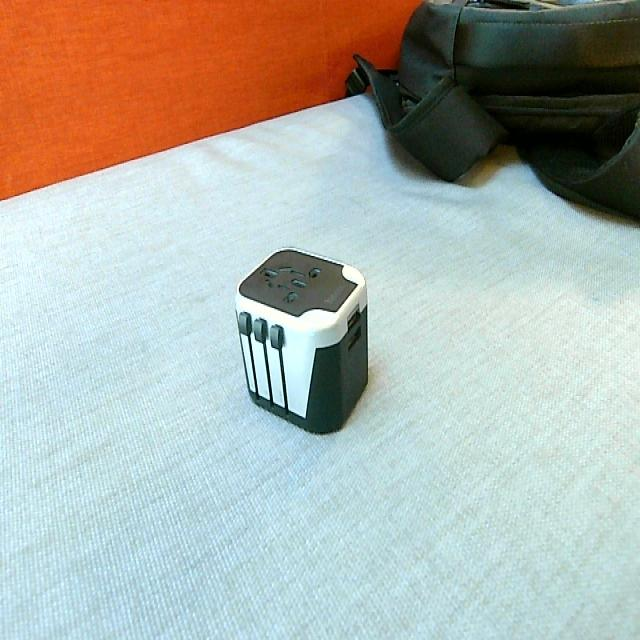adapter: (233, 245, 369, 435)
